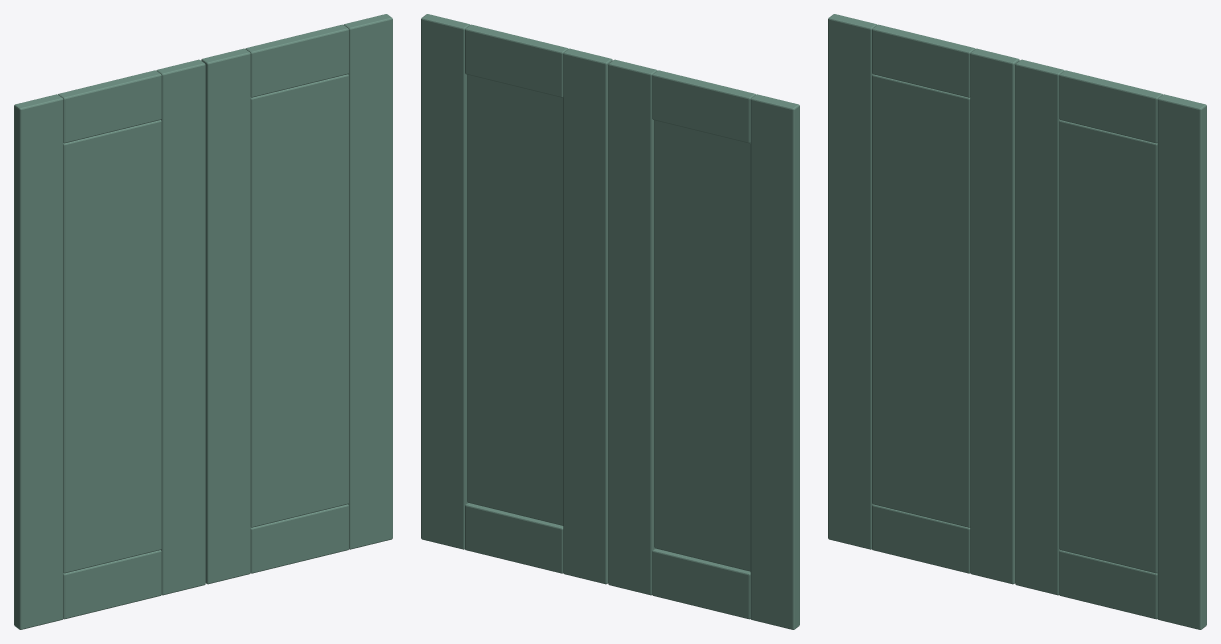
The model's file is DOOR_DOUBLE_600x800.glb.
3 renders of one model, left to right at view 1: azimuth 30°, elevation 25°; view 2: azimuth 150°, elevation 25°; view 3: azimuth 330°, elevation 25°, orthographic.
Parts seen in each view (by area): view 1: front_panel_01_center, front_panel_02_center, front_panel_01_left, front_panel_02_left, front_panel_01_right, front_panel_02_right, front_panel_01_top, front_panel_02_top, front_panel_01_bottom, front_panel_02_bottom; view 2: front_panel_01_center, front_panel_02_center, front_panel_01_left, front_panel_01_right, front_panel_02_right, front_panel_02_left, front_panel_01_top, front_panel_02_top, front_panel_02_bottom, front_panel_01_bottom; view 3: front_panel_01_center, front_panel_02_center, front_panel_02_right, front_panel_01_right, front_panel_02_left, front_panel_01_left, front_panel_01_top, front_panel_02_top, front_panel_02_bottom, front_panel_01_bottom.
Part boxes in pixels (bbox=[...]): front_panel_01_center: bbox=[63, 120, 161, 573]; front_panel_02_center: bbox=[250, 74, 348, 527]; front_panel_01_left: bbox=[14, 94, 63, 629]; front_panel_02_left: bbox=[201, 48, 250, 584]; front_panel_01_right: bbox=[156, 59, 205, 595]; front_panel_02_right: bbox=[344, 14, 392, 549]; front_panel_01_top: bbox=[58, 70, 161, 143]; front_panel_02_top: bbox=[245, 24, 348, 97]; front_panel_01_bottom: bbox=[63, 550, 161, 619]; front_panel_02_bottom: bbox=[250, 504, 348, 573]; front_panel_01_center: bbox=[654, 120, 750, 571]; front_panel_02_center: bbox=[467, 74, 563, 525]; front_panel_01_left: bbox=[750, 94, 799, 629]; front_panel_01_right: bbox=[608, 59, 657, 595]; front_panel_02_right: bbox=[421, 14, 469, 549]; front_panel_02_left: bbox=[563, 48, 612, 584]; front_panel_01_top: bbox=[652, 70, 755, 143]; front_panel_02_top: bbox=[465, 24, 568, 97]; front_panel_02_bottom: bbox=[465, 503, 563, 573]; front_panel_01_bottom: bbox=[652, 548, 750, 619]; front_panel_01_center: bbox=[872, 74, 970, 527]; front_panel_02_center: bbox=[1059, 120, 1157, 573]; front_panel_02_right: bbox=[1157, 94, 1206, 629]; front_panel_01_right: bbox=[970, 48, 1019, 584]; front_panel_02_left: bbox=[1015, 59, 1064, 595]; front_panel_01_left: bbox=[828, 14, 876, 549]; front_panel_01_top: bbox=[872, 24, 975, 97]; front_panel_02_top: bbox=[1059, 70, 1162, 143]; front_panel_02_bottom: bbox=[1059, 550, 1157, 619]; front_panel_01_bottom: bbox=[872, 504, 970, 573].
Bounding box in the file's own units: 0.596 × 0.796 × 0.018.
